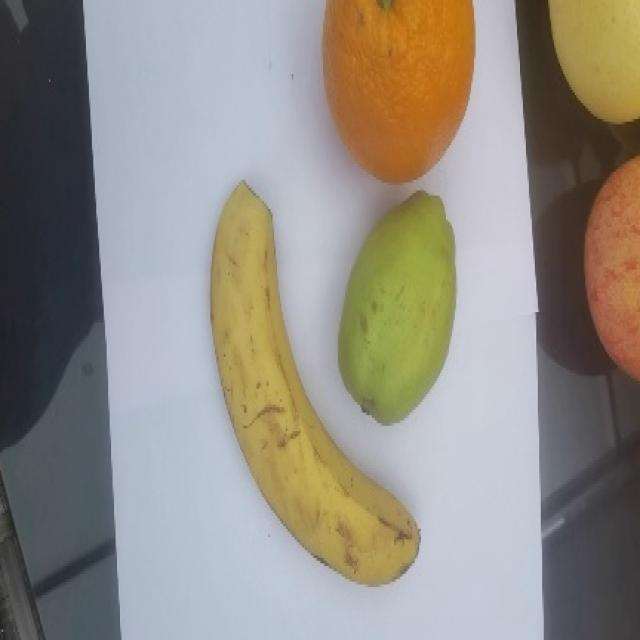Apple: (582, 154, 639, 382)
Banana: (208, 178, 421, 586)
Orange: (321, 0, 475, 184)
